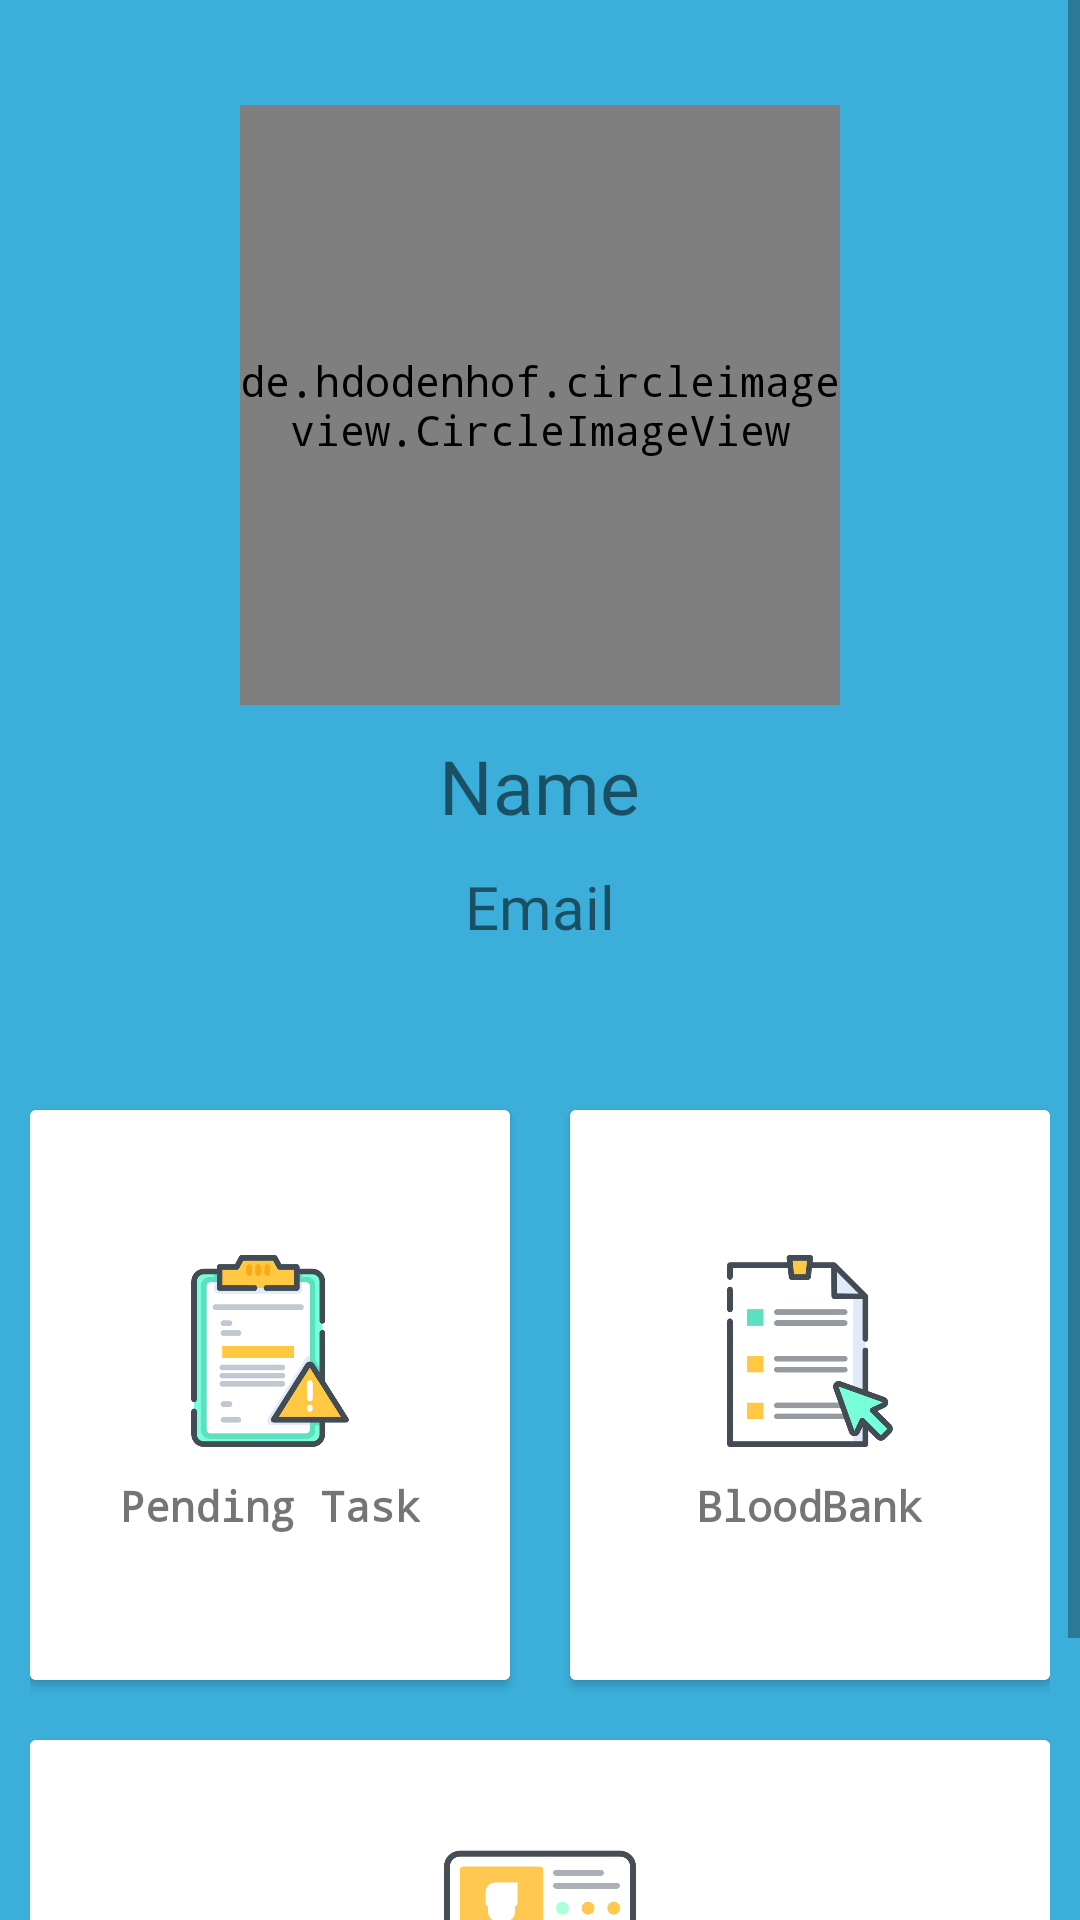

Icon click points for this 1080*1920 phone screenshot, format (x=x, y=y):
clipboard: (x=270, y=1351)
tasks: (x=810, y=1351)
